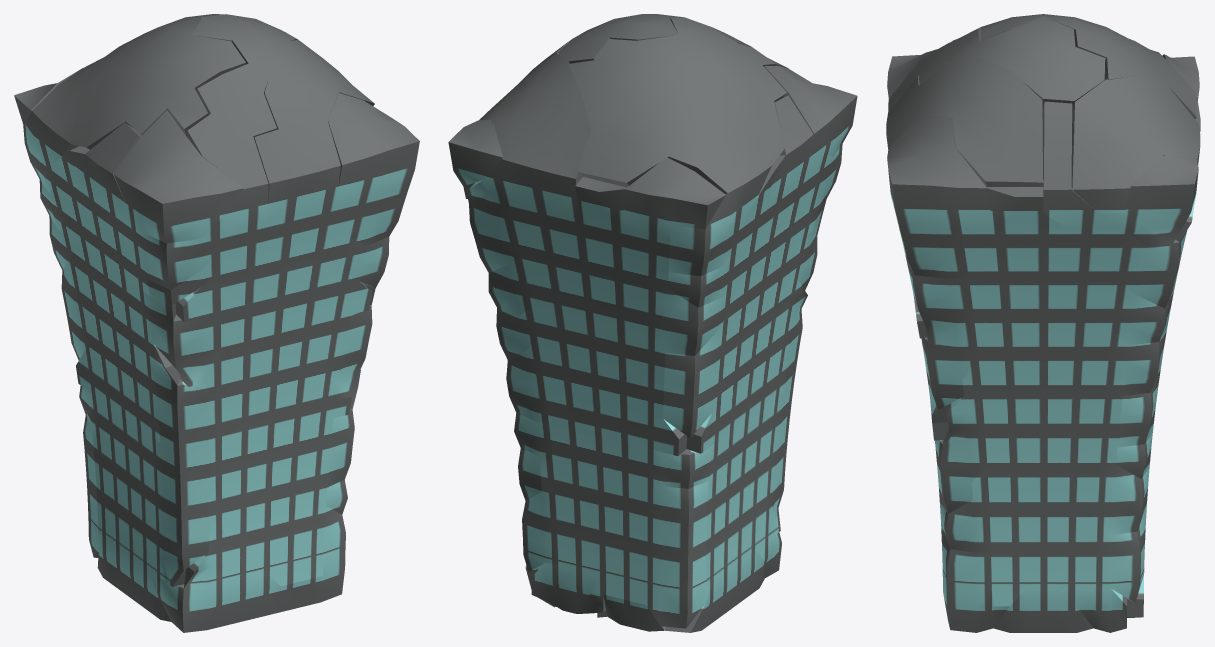
Rendered from CollapsedBuilding.fbx.
The picture shows the model from 3 angles, left to right: view 1: azimuth 30°, elevation 25°; view 2: azimuth 150°, elevation 25°; view 3: azimuth 270°, elevation 25°; orthographic projection.
Parts seen in each view (by area): view 1: shard18, shard20, shard2, shard3, shard17, shard9, shard28, shard6, shard13, shard21, shard22, shard15 (+9 smaller); view 2: shard2, shard1, shard10, shard14, shard5, shard24, shard13, shard17, shard7, shard3, shard4, shard12 (+8 smaller); view 3: shard6, shard14, shard16, shard18, shard8, shard11, shard26, shard23, shard12, shard20, shard7, shard2 (+7 smaller).
Boxes of the visible parts, x1,y1,x2,y2 form: shard18: [175, 39, 374, 333]; shard20: [126, 14, 296, 386]; shard2: [23, 14, 245, 192]; shard3: [93, 245, 239, 591]; shard17: [39, 122, 222, 295]; shard9: [156, 505, 345, 632]; shard28: [113, 110, 243, 243]; shard6: [328, 93, 419, 245]; shard13: [61, 246, 160, 453]; shard21: [258, 256, 372, 361]; shard22: [209, 485, 324, 586]; shard15: [206, 337, 351, 446]; shard2: [568, 17, 786, 276]; shard1: [540, 433, 713, 628]; shard10: [575, 157, 743, 385]; shard14: [466, 53, 590, 272]; shard5: [506, 309, 686, 456]; shard24: [514, 402, 763, 585]; shard13: [663, 264, 785, 437]; shard17: [668, 95, 842, 307]; shard7: [488, 219, 627, 322]; shard3: [748, 247, 807, 560]; shard4: [525, 537, 764, 632]; shard12: [522, 491, 588, 572]; shard6: [887, 115, 1069, 278]; shard14: [1071, 75, 1200, 308]; shard16: [940, 430, 1149, 552]; shard18: [886, 58, 1043, 186]; shard8: [907, 262, 1043, 423]; shard11: [935, 345, 1063, 513]; shard26: [1021, 295, 1166, 447]; shard23: [1043, 101, 1198, 245]; shard12: [992, 504, 1146, 606]; shard20: [888, 16, 1105, 111]; shard7: [1043, 229, 1176, 345]; shard2: [952, 14, 1196, 118].
Bounding box in the file's own units: 18.8 × 37.73 × 18.79.
